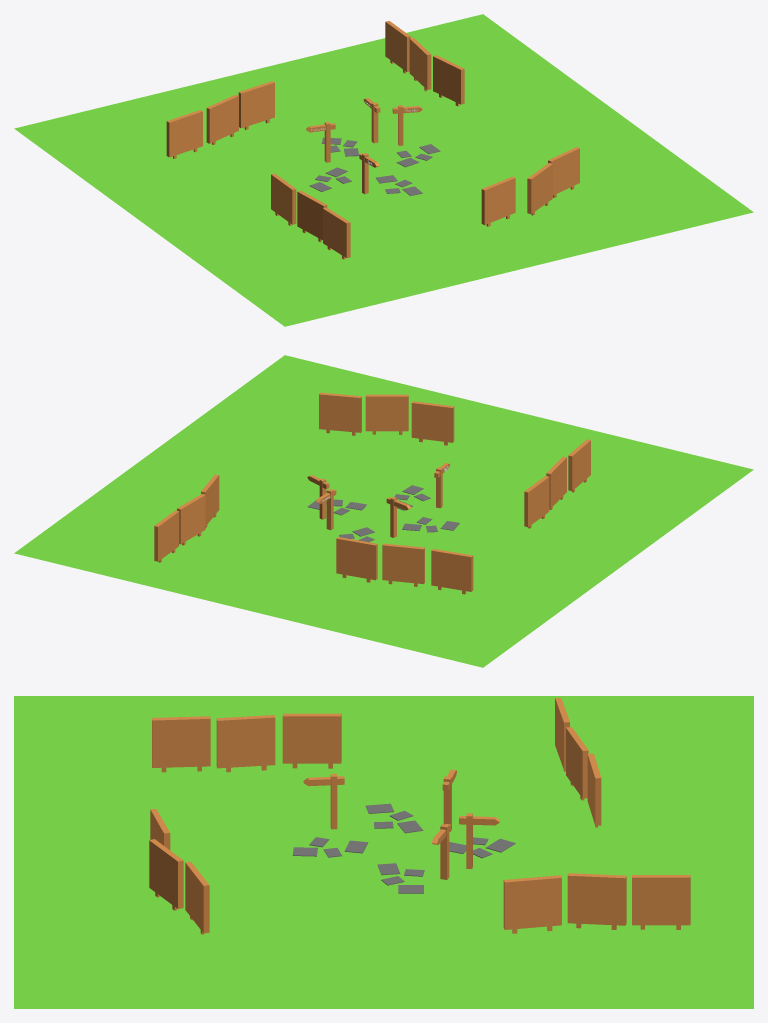
The model's file is platform.glb.
The picture shows the model from 3 angles, top to bottom: view 1: azimuth 30°, elevation 25°; view 2: azimuth 150°, elevation 25°; view 3: azimuth 270°, elevation 25°; orthographic projection. The views are drawn at different scales.
Visible parts, largest first — view 1: Plane, Cube.020, Cube.030, Cube.024, Cube.028, Cube.033, Cube.023, Cube.027, Cube.022, Cube.025, Cube.021, Cube.029 (+1 smaller); view 2: Plane, Cube.025, Cube.024, Cube.028, Cube.027, Cube.020, Cube.030, Cube.026, Cube.021, Cube.029, Cube.023, Cube.022 (+1 smaller); view 3: Plane, Cube.021, Cube.026, Cube.022, Cube.023, Cube.033, Cube.029, Cube.025, Cube.027, Cube.028, Cube.030, Cube.002 (+4 smaller).
Part boxes in pixels (bbox=[...]): Plane: bbox=[14, 14, 753, 326]; Cube.020: bbox=[166, 110, 202, 158]; Cube.030: bbox=[238, 81, 274, 129]; Cube.024: bbox=[481, 176, 515, 226]; Cube.028: bbox=[206, 94, 238, 144]; Cube.033: bbox=[433, 55, 464, 106]; Cube.023: bbox=[323, 207, 350, 259]; Cube.027: bbox=[548, 147, 579, 197]; Cube.022: bbox=[297, 190, 327, 241]; Cube.025: bbox=[527, 163, 552, 215]; Cube.021: bbox=[271, 173, 296, 225]; Cube.029: bbox=[385, 21, 410, 73]; Plane: bbox=[14, 355, 753, 667]; Cube.025: bbox=[365, 394, 408, 434]; Cube.024: bbox=[411, 401, 454, 445]; Cube.028: bbox=[382, 543, 424, 586]; Cube.027: bbox=[319, 392, 361, 435]; Cube.020: bbox=[431, 549, 473, 594]; Cube.030: bbox=[336, 537, 377, 582]; Cube.026: bbox=[177, 494, 205, 545]; Cube.021: bbox=[524, 476, 549, 528]; Cube.029: bbox=[154, 510, 179, 562]; Cube.023: bbox=[568, 439, 590, 492]; Cube.022: bbox=[546, 456, 566, 509]; Plane: bbox=[14, 696, 753, 1008]; Cube.021: bbox=[282, 713, 341, 768]; Cube.026: bbox=[567, 873, 626, 929]; Cube.022: bbox=[216, 715, 275, 772]; Cube.023: bbox=[152, 716, 210, 772]; Cube.033: bbox=[503, 875, 561, 933]; Cube.029: bbox=[632, 875, 690, 929]; Cube.025: bbox=[149, 839, 183, 910]; Cube.027: bbox=[185, 861, 209, 934]; Cube.028: bbox=[566, 727, 588, 800]; Cube.030: bbox=[587, 753, 601, 827]; Cube.002: bbox=[303, 773, 344, 829].
Bounding box in the file's own units: 24 × 1.92 × 24.
